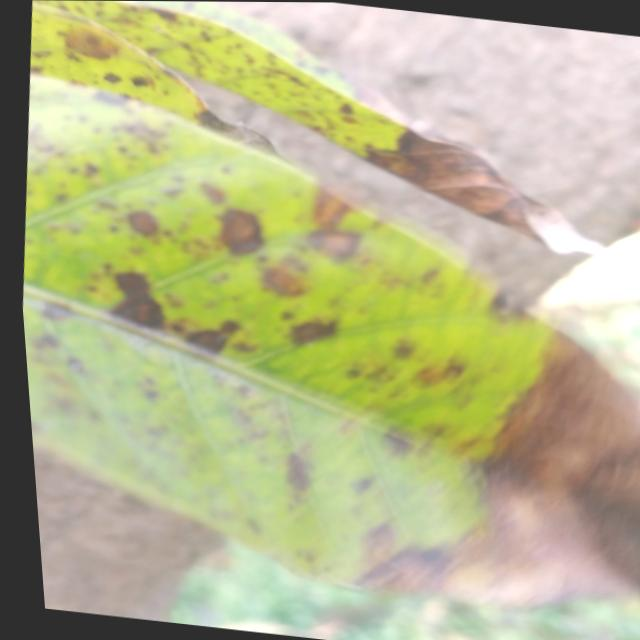Anthracnose: (484, 336, 639, 592), (355, 548, 449, 593), (107, 271, 166, 328), (300, 185, 353, 237), (59, 21, 121, 65), (184, 318, 244, 360), (213, 211, 264, 256), (219, 209, 262, 255), (485, 287, 530, 329), (412, 356, 467, 389), (359, 522, 397, 567), (287, 315, 339, 347), (307, 229, 359, 260), (259, 265, 306, 297), (124, 203, 161, 242), (284, 452, 310, 498), (378, 428, 414, 460), (197, 176, 228, 208), (90, 89, 130, 107), (416, 263, 443, 288), (148, 3, 179, 24), (30, 331, 58, 352), (349, 475, 374, 496), (393, 339, 413, 359), (80, 162, 99, 181), (102, 70, 122, 87), (130, 76, 153, 86), (339, 102, 353, 115)
